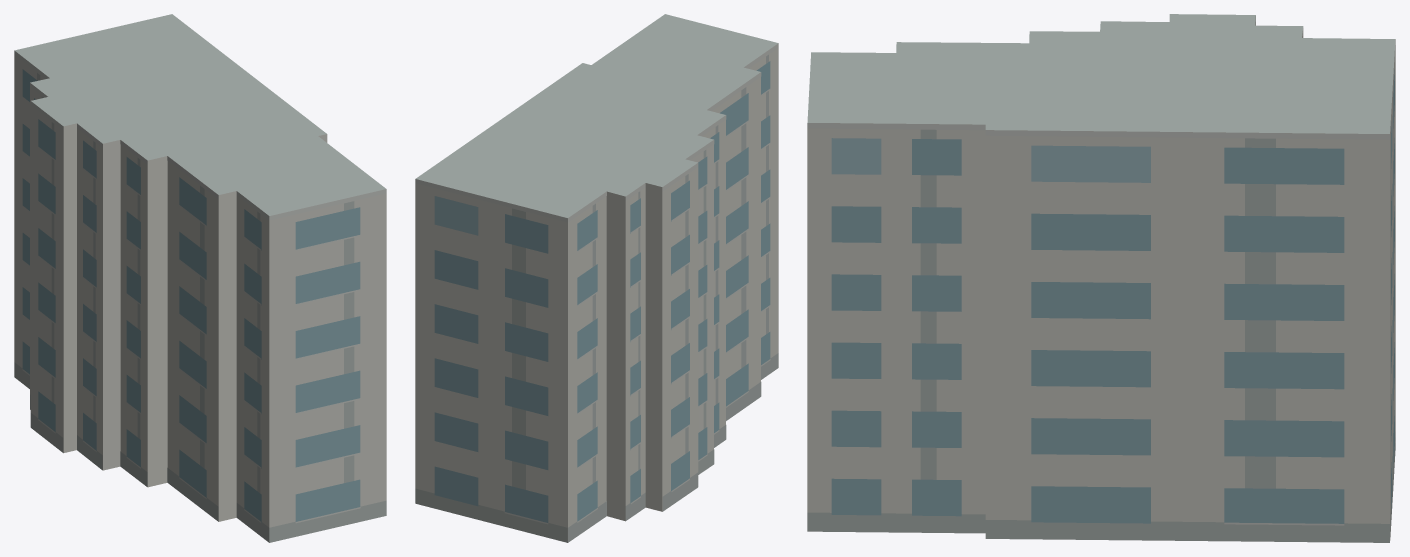
Rendered from survey-upis-32811932.glb.
3 renders of one model, left to right at view 1: azimuth 30°, elevation 25°; view 2: azimuth 150°, elevation 25°; view 3: azimuth 270°, elevation 25°, orthographic. The views are drawn at different scales.
Parts seen in each view (by area): view 1: survey-upis-32811932.tmp; view 2: survey-upis-32811932.tmp; view 3: survey-upis-32811932.tmp.
Part boxes in pixels (bbox=[...]): survey-upis-32811932.tmp: bbox=[14, 14, 386, 542]; survey-upis-32811932.tmp: bbox=[415, 14, 778, 542]; survey-upis-32811932.tmp: bbox=[807, 14, 1395, 542].
Size of the model in its own units: 10.97 by 17.4 by 22.7.
